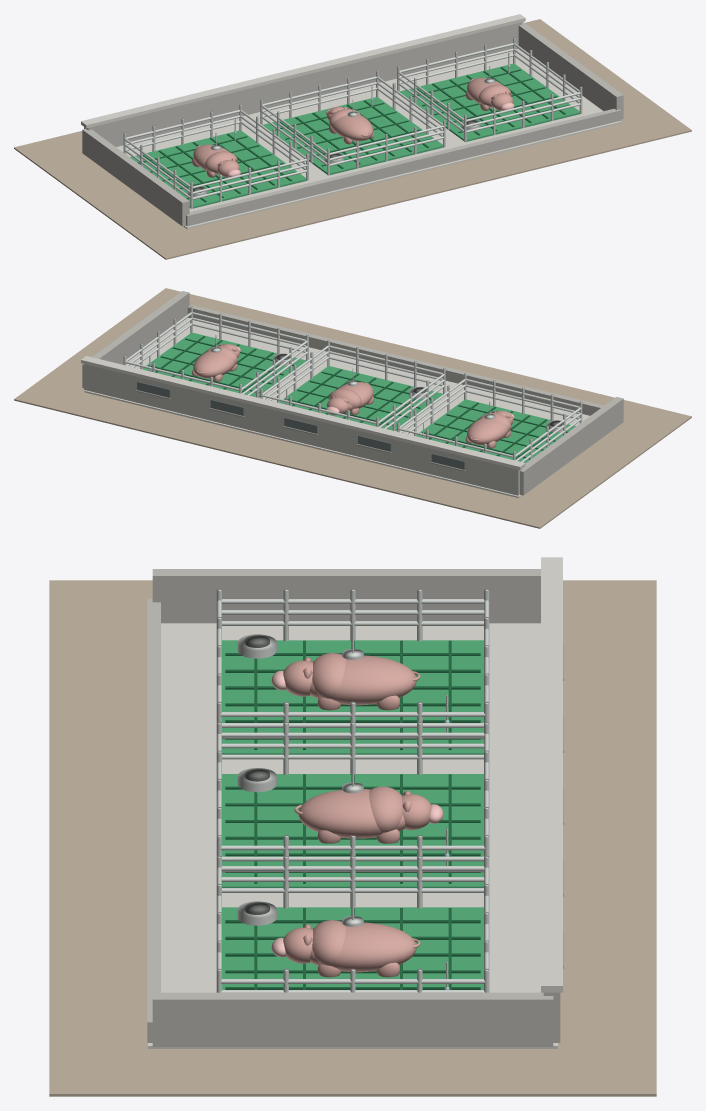
The model's file is verracos.glb.
The picture shows the model from 3 angles, top to bottom: view 1: azimuth 30°, elevation 25°; view 2: azimuth 150°, elevation 25°; view 3: azimuth 270°, elevation 25°; orthographic projection. The views are drawn at different scales.
Parts seen in each view (by area): view 1: outside-yard, back-wall, concrete-base, front-curb, verraco-corral-3-floor, verraco-corral-2-floor, verraco-corral-1-floor, back-wall-cap, left-wall, right-wall, verraco-corral-2-boar-body, verraco-corral-1-boar-body (+1 smaller); view 2: outside-yard, back-wall, concrete-base, front-curb, back-wall-cap, left-wall, verraco-corral-2-floor, verraco-corral-3-floor, verraco-corral-1-floor, right-wall, verraco-corral-3-boar-body, verraco-corral-1-boar-body (+1 smaller); view 3: outside-yard, concrete-base, right-wall, left-wall, verraco-corral-2-floor, verraco-corral-1-floor, verraco-corral-3-floor, back-wall-cap, front-curb, verraco-corral-2-boar-body, verraco-corral-1-boar-body, verraco-corral-3-boar-body (+21 smaller).
Boxes of the visible parts, box(x1,y1,x2,y2) form: outside-yard: box(14, 19, 691, 259); back-wall: box(84, 22, 522, 146); concrete-base: box(116, 49, 621, 229); front-curb: box(186, 108, 621, 226); verraco-corral-3-floor: box(400, 64, 580, 141); verraco-corral-2-floor: box(263, 97, 443, 175); verraco-corral-1-floor: box(130, 130, 306, 208); back-wall-cap: box(81, 14, 525, 128); left-wall: box(82, 128, 189, 226); right-wall: box(518, 22, 623, 119); verraco-corral-2-boar-body: box(331, 114, 373, 141); verraco-corral-1-boar-body: box(193, 144, 229, 174); outside-yard: box(14, 288, 691, 528); back-wall: box(84, 364, 521, 495); concrete-base: box(84, 318, 589, 498); front-curb: box(187, 304, 603, 415); back-wall-cap: box(81, 356, 525, 470); left-wall: box(520, 397, 623, 495); verraco-corral-2-floor: box(279, 366, 442, 430); verraco-corral-3-floor: box(143, 333, 305, 397); verraco-corral-1-floor: box(416, 399, 575, 462); right-wall: box(82, 291, 189, 388); verraco-corral-3-boar-body: box(193, 351, 235, 378); verraco-corral-1-boar-body: box(467, 417, 508, 445); outside-yard: box(49, 580, 656, 1096); concrete-base: box(148, 623, 557, 1048); right-wall: box(152, 992, 553, 1046); left-wall: box(152, 569, 540, 623); verraco-corral-2-floor: box(222, 774, 483, 887); verraco-corral-1-floor: box(222, 640, 483, 754); verraco-corral-3-floor: box(222, 907, 483, 989); back-wall-cap: box(541, 557, 562, 992); front-curb: box(147, 598, 160, 1042); verraco-corral-2-boar-body: box(298, 789, 405, 838); verraco-corral-1-boar-body: box(309, 655, 416, 705); verraco-corral-3-boar-body: box(309, 922, 416, 972).
Bounding box in the file's own units: 40 × 2.96 × 20.
